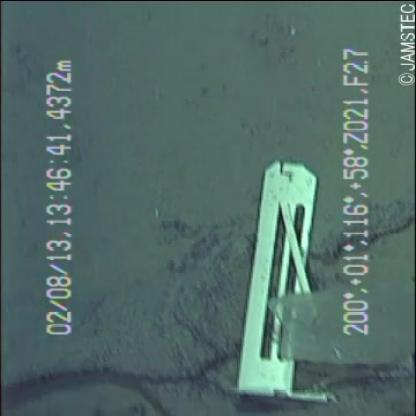Rác: (202, 149, 332, 409)
